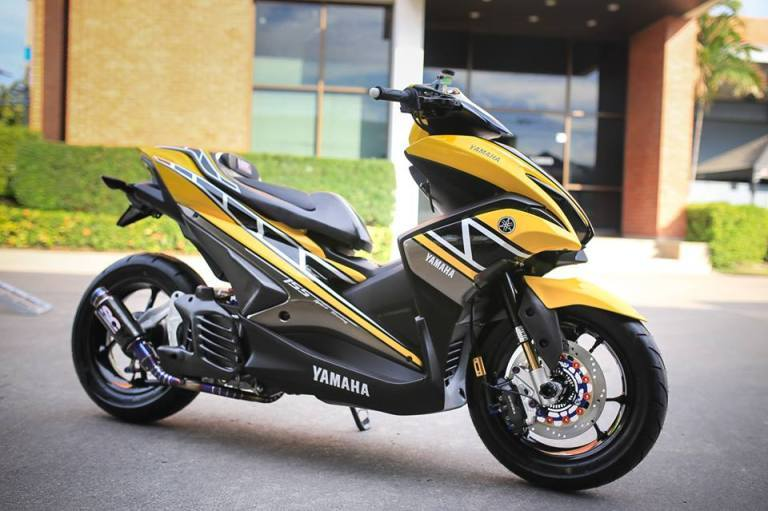motorcycle: (70, 77, 667, 491)
